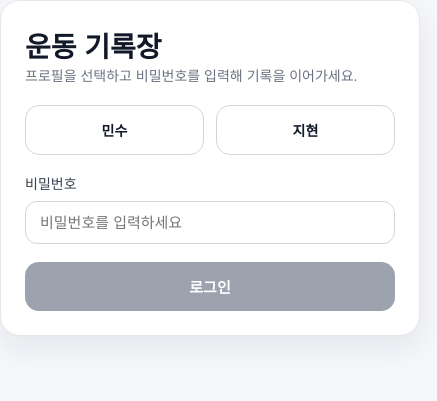
Test: LoginPanel › 잘못된 로그인 결과면 에러 메시지를 보여야 한다
Click the button "민수": (114,130) [25, 105, 204, 155]
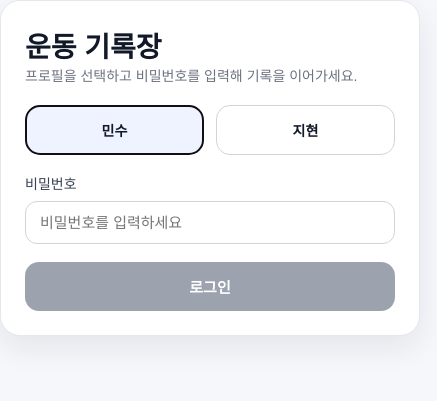
In the password field labelled "비밀번호": (210,223) [25, 201, 395, 244], type "9999"
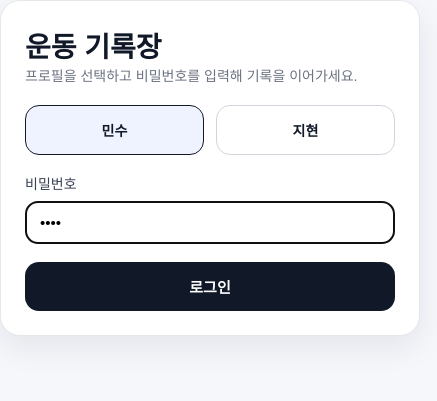
Click the button "로그인": (210,287) [25, 262, 395, 311]
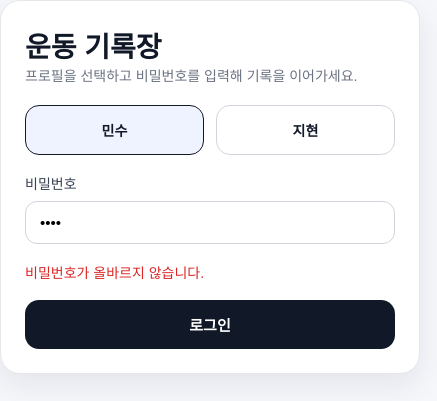
expect the text "비밀번호가 올바르지 않습니다." is shown: met, box [25, 265, 204, 281]
